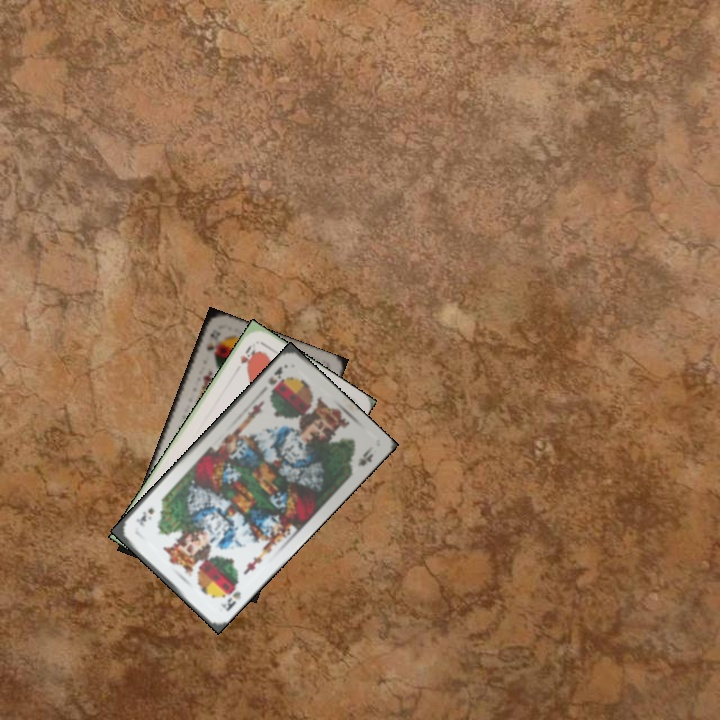HO: (236, 342, 258, 367)
SK: (217, 587, 244, 614), (201, 325, 223, 353), (264, 362, 285, 388)
